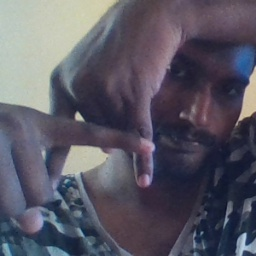H: (30, 74, 164, 203)
